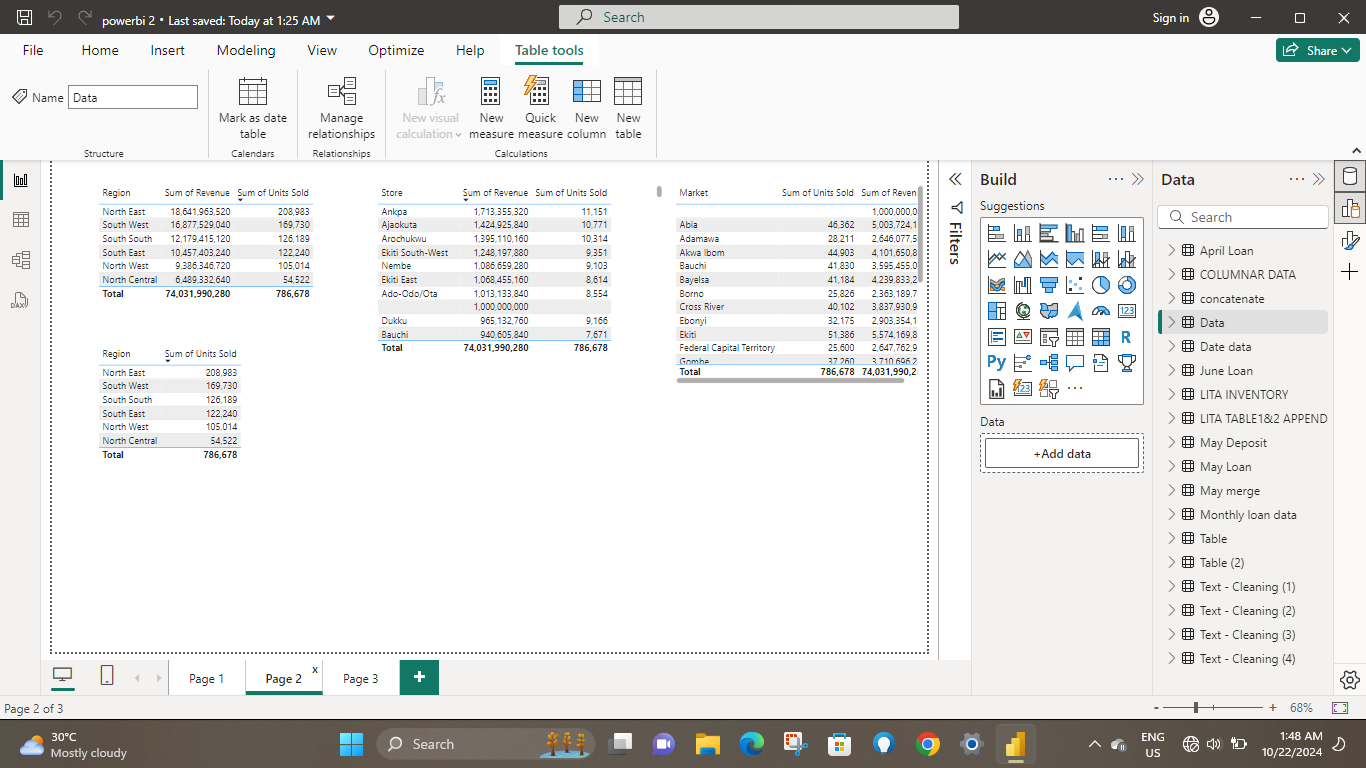

This screenshot's page, from the dashboard's own definition file:
{"tool":"powerbi","page":{"name":"Page 2","canvas":[1280,720],"ordinal":1},"visuals":[{"type":"tableEx","fields":{"Values":["Data.Region","Sum(Data.Units Sold )"]},"box":[62.9,267.8,333.7,184.4],"z":0},{"type":"tableEx","fields":{"Values":["Data.Region","Sum(Data.Revenue )","Sum(Data.Units Sold )"]},"box":[62.9,32.2,398,213.7],"z":1000},{"type":"tableEx","fields":{"Values":["Data.Store","Sum(Data.Revenue )","Sum(Data.Units Sold )"]},"box":[471.2,32.2,427.3,256.1],"z":2000},{"type":"tableEx","fields":{"Values":["Data.Market","Sum(Data.Units Sold )","Sum(Data.Revenue )"]},"box":[907.3,32.2,373.2,300],"z":3000}]}

Visuals, with their boxes on the page's 1280x720 design canvas (x1, y1, x2, y2). These are canvas units, not pixel positions in the 1366x768 screenshot, which may show the page scaled, cropped or inside an application window:
tableEx - Data.Region x Sum(Data.Units Sold ): <region>63, 268, 397, 452</region>
tableEx - Data.Region x Sum(Data.Revenue ): <region>63, 32, 461, 246</region>
tableEx - Data.Store x Sum(Data.Revenue ): <region>471, 32, 898, 288</region>
tableEx - Data.Market x Sum(Data.Units Sold ): <region>907, 32, 1280, 332</region>
